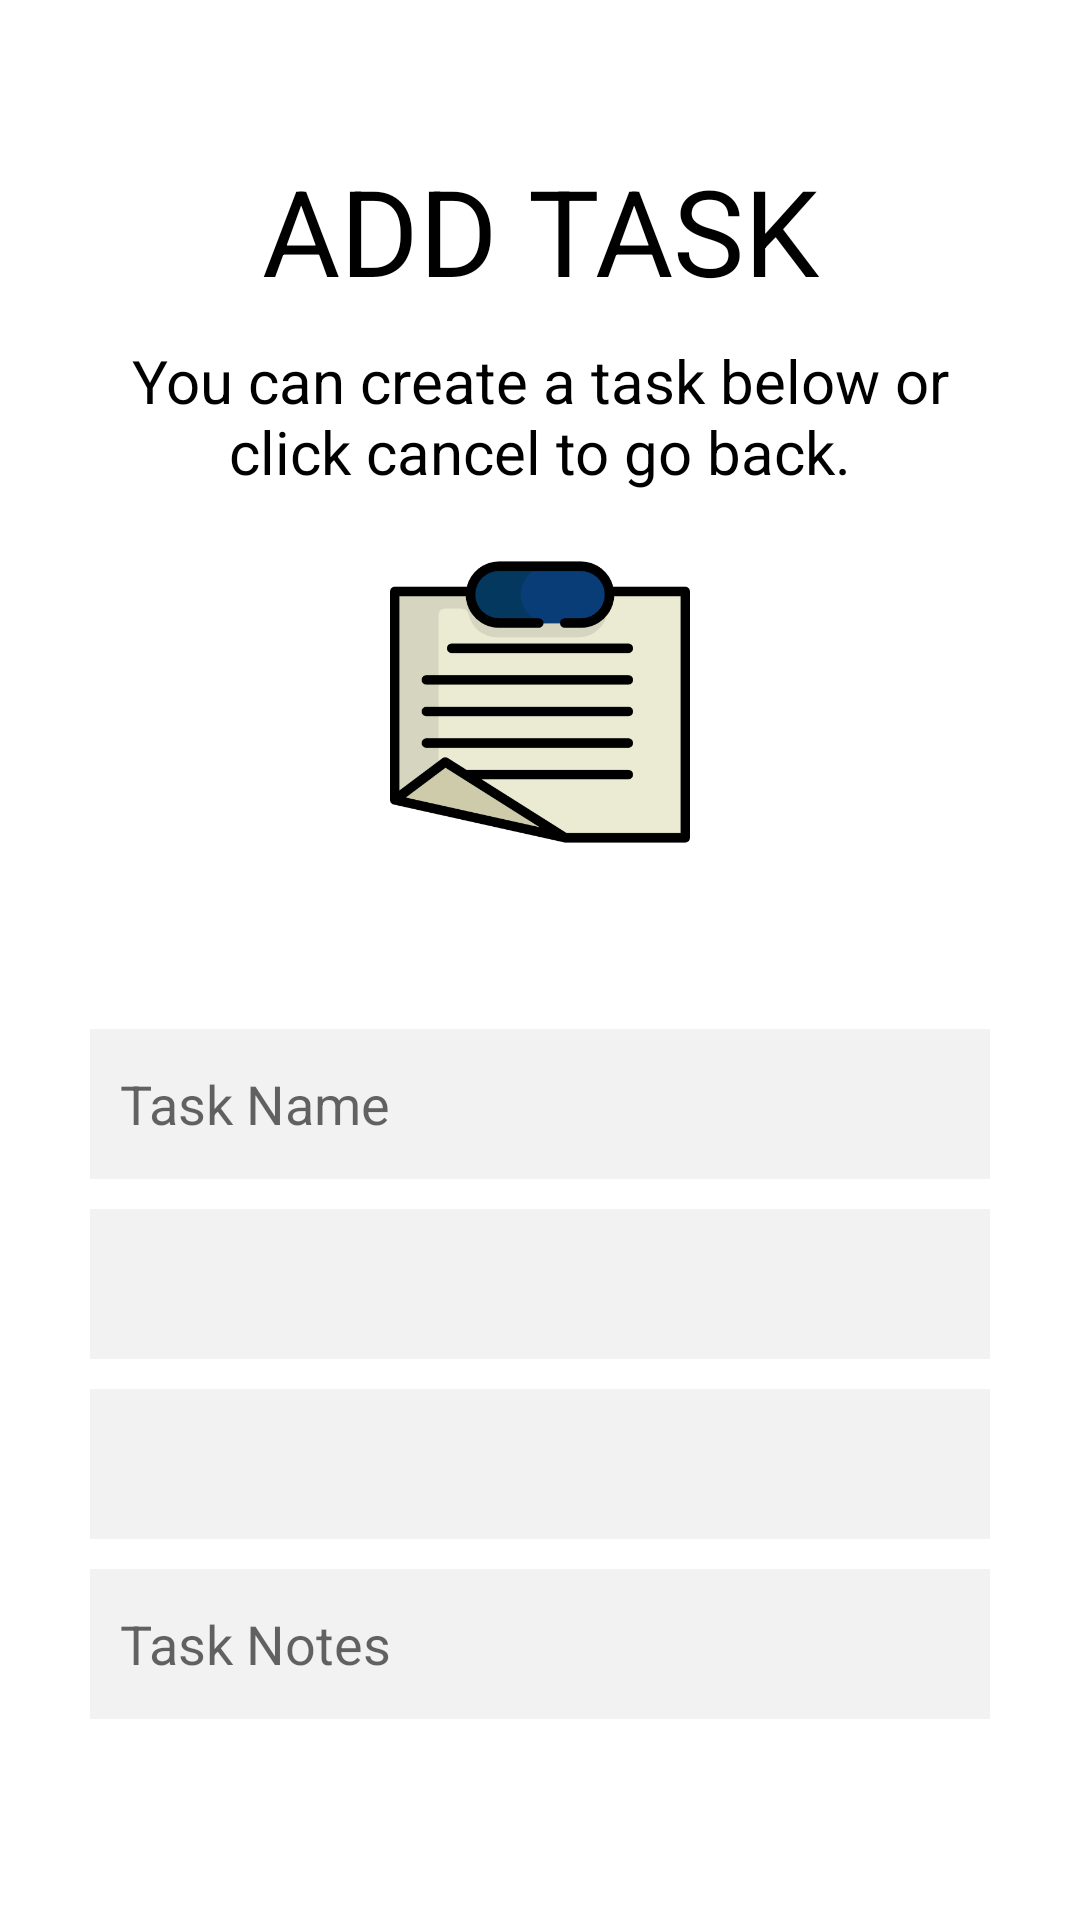

Named icons in this screenshot (1080×1920) and their bounding boxes, (x1, y1, x2, y2):
paper note: (390, 561, 690, 843)
